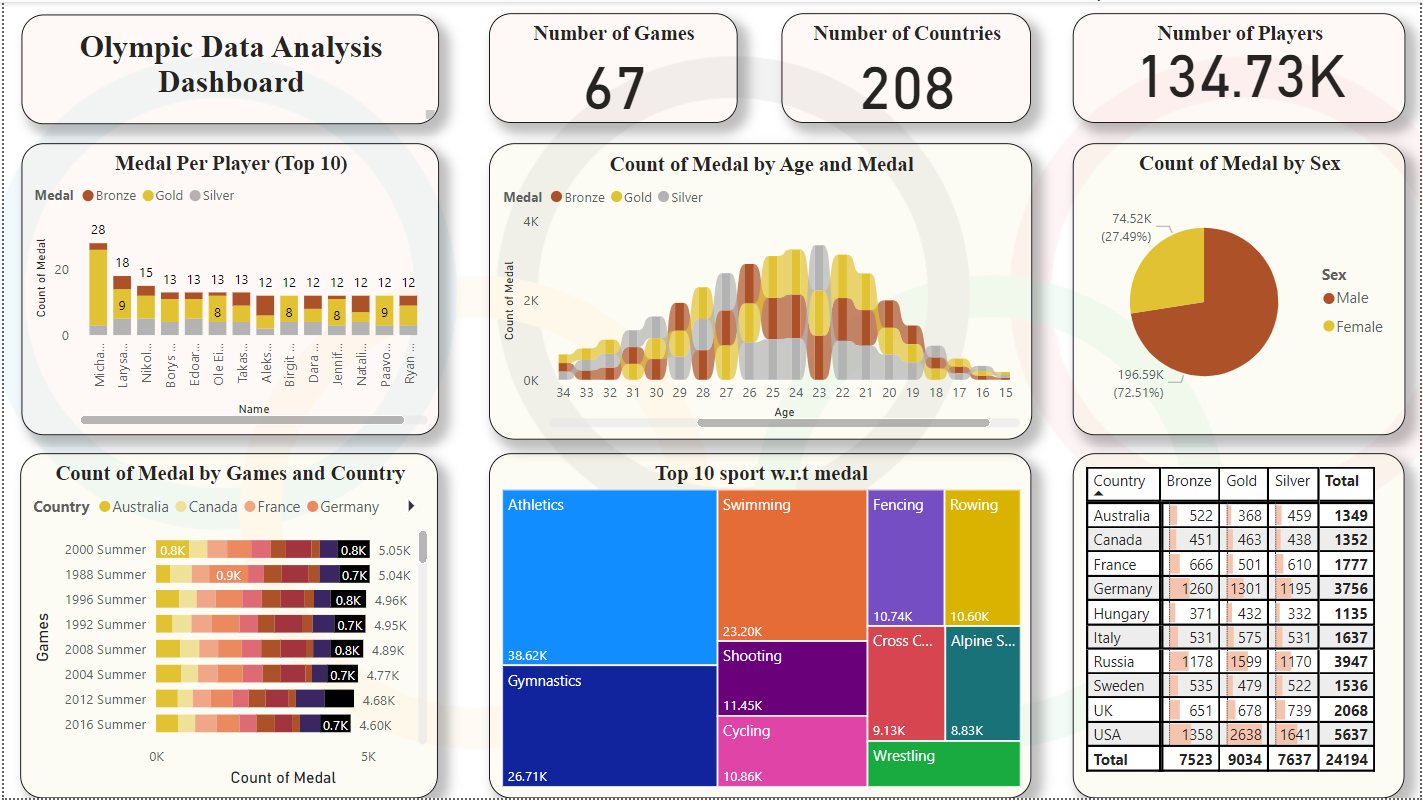

This screenshot's page, from the dashboard's own definition file:
{"tool":"powerbi","page":{"name":"Dashboard","canvas":[1280,720],"ordinal":0},"visuals":[{"type":"pieChart","fields":{"Category":["data.Sex"],"Y":["data.Medal"]},"box":[966.5,127.9,300.5,264.3],"z":0},{"type":"pivotTable","fields":{"Rows":["data.Country"],"Columns":["data.Medal"],"Values":["data.Medal"]},"box":[966.3,408.1,300,311.6],"z":1000},{"type":"treemap","title":"Top 10 sport w.r.t medal","fields":{"Group":["data.Sport"],"Values":["data.Medal"]},"box":[438.4,408.1,490.7,311.6],"z":2000},{"type":"card","title":"Number of Games","fields":{"Values":["data.Sport"]},"box":[438.4,10.5,224.4,98.8],"z":3000},{"type":"card","title":"Number of Countries","fields":{"Values":["data.Country"]},"box":[703.5,10.5,225.6,98.8],"z":4000},{"type":"columnChart","title":"Medal Per Player (Top 10)","fields":{"Category":["data.Name"],"Y":["data.Medal"],"Series":["data.Medal"]},"box":[15.7,127.9,377.7,264.3],"z":5000},{"type":"barChart","fields":{"Category":["data.Games"],"Y":["data.Medal"],"Series":["data.Country"]},"box":[15.1,408.1,377.9,311.6],"z":6000},{"type":"ribbonChart","fields":{"Category":["data.Age"],"Y":["data.Medal"],"Series":["data.Medal"]},"box":[438,127.9,491.1,267.9],"z":7000},{"type":"textbox","title":"Olympic Data Analysis Dashboard","box":[15.7,10.9,377.7,98.9],"z":8000},{"type":"card","title":"Number of Players","fields":{"Values":["data.Name"]},"box":[966.3,10.5,301.2,98.8],"z":9000}]}

Visuals, with their boxes in screenshot pixels (x1, y1, x2, y2), scaled from the page's 1280x720 canvas onto the 1423x800 screenshot:
pieChart - data.Sex x data.Medal: 1074/142/1409/436
pivotTable - data.Country x data.Medal: 1074/453/1408/799
"Top 10 sport w.r.t medal" treemap: 487/453/1033/799
"Number of Games" card: 487/12/737/121
"Number of Countries" card: 782/12/1033/121
"Medal Per Player (Top 10)" columnChart: 17/142/437/436
barChart - data.Games x data.Medal: 17/453/437/799
ribbonChart - data.Age x data.Medal: 487/142/1033/440
"Olympic Data Analysis Dashboard" textbox: 17/12/437/122
"Number of Players" card: 1074/12/1409/121
